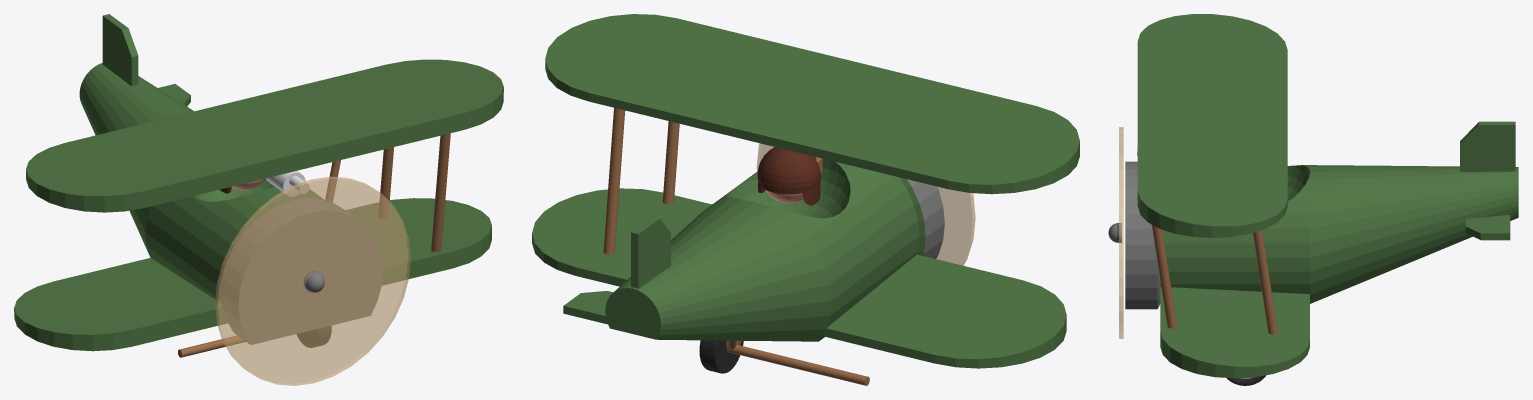
Rendered from sopwith_camel.glb.
The picture shows the model from 3 angles, left to right: view 1: azimuth 30°, elevation 25°; view 2: azimuth 150°, elevation 25°; view 3: azimuth 270°, elevation 25°; orthographic projection. The views are drawn at different scales.
Parts seen in each view (by area): view 1: Upper Wing, Body, Prop, Lower Wing, Tail Vertical, Forward Strut, Back Strut, Wheel Axel, Wheels, Gun Barrel; view 2: Upper Wing, Body, Lower Wing, Hat, Prop, Tail Vertical, Back Strut, Wheel Axel, Tail Horizontal, Wheels, Forward Strut; view 3: Body, Upper Wing, Lower Wing, Tail Vertical, Back Strut, Prop, Forward Strut, Tail Horizontal.
Boxes of the visible parts, <box> form: Upper Wing: <box>26,59,503,212</box>; Body: <box>79,63,382,344</box>; Prop: <box>215,176,410,385</box>; Lower Wing: <box>14,198,491,351</box>; Tail Vertical: <box>102,14,138,86</box>; Forward Strut: <box>431,133,450,251</box>; Back Strut: <box>378,147,393,219</box>; Wheel Axel: <box>178,335,245,357</box>; Wheels: <box>296,326,331,347</box>; Gun Barrel: <box>266,171,305,196</box>; Upper Wing: <box>545,14,1079,194</box>; Body: <box>605,158,944,341</box>; Lower Wing: <box>532,188,1066,368</box>; Hat: <box>757,147,820,205</box>; Prop: <box>756,143,975,265</box>; Tail Vertical: <box>631,216,670,288</box>; Back Strut: <box>603,108,625,254</box>; Wheel Axel: <box>726,345,869,385</box>; Tail Horizontal: <box>563,291,612,324</box>; Wheels: <box>699,340,743,373</box>; Forward Strut: <box>662,121,679,204</box>; Body: <box>1125,161,1518,309</box>; Upper Wing: <box>1137,14,1287,237</box>; Lower Wing: <box>1160,286,1309,378</box>; Tail Vertical: <box>1460,121,1515,171</box>; Back Strut: <box>1253,230,1277,334</box>; Prop: <box>1119,127,1123,338</box>; Forward Strut: <box>1152,225,1177,328</box>; Tail Horizontal: <box>1465,214,1510,240</box>.
Size of the model in its own units: 6.7 by 3.51 by 5.47.
